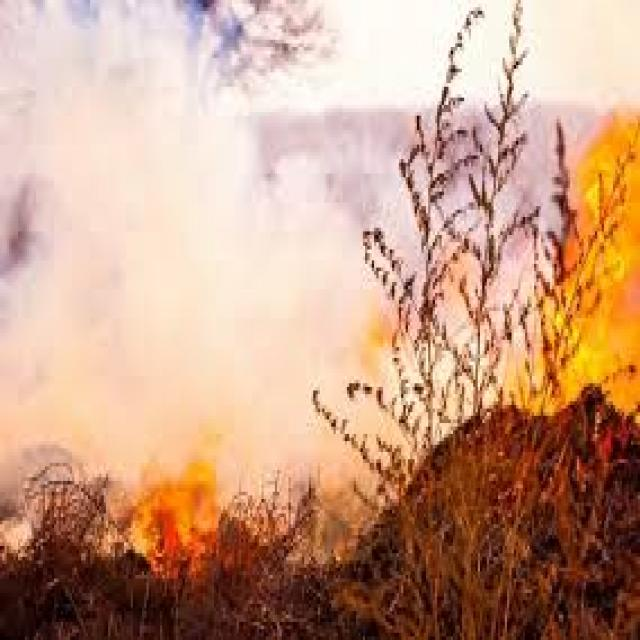fire: (516, 101, 638, 427), (128, 456, 221, 604)
smoke: (2, 4, 345, 481)
